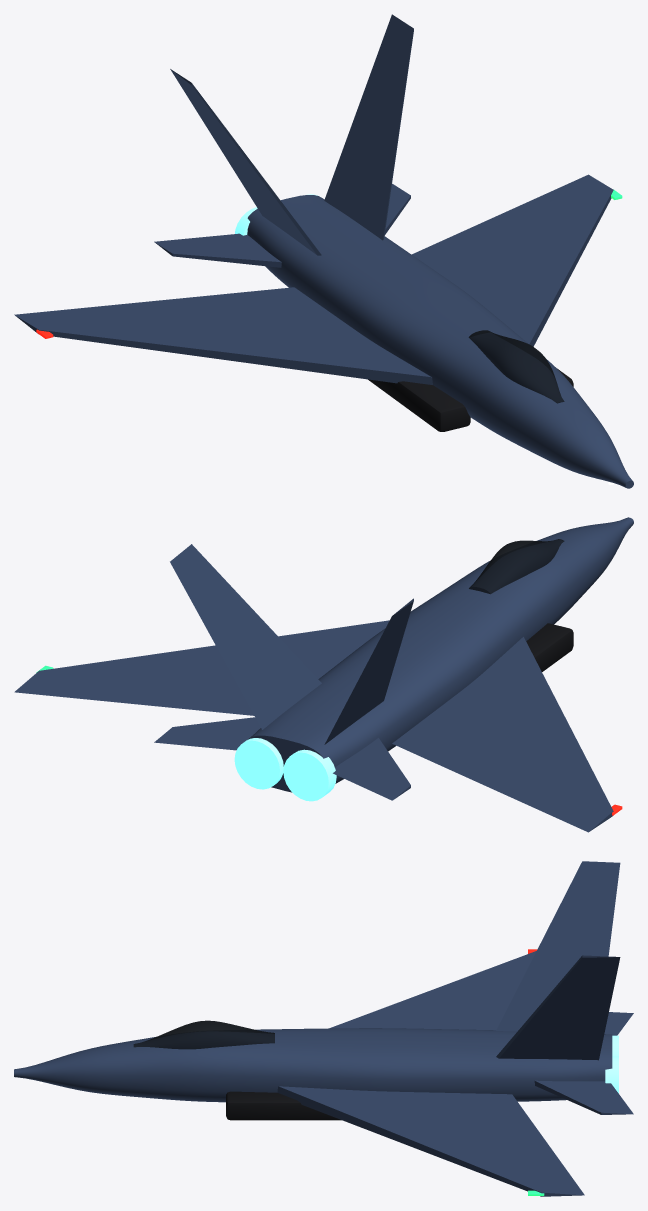
File: vanguard-jet.glb
3 renders of one model, top to bottom at view 1: azimuth 30°, elevation 25°; view 2: azimuth 150°, elevation 25°; view 3: azimuth 270°, elevation 25°, orthographic. The views are drawn at different scales.
Visible parts, largest first — view 1: Body; view 2: Body; view 3: Body.
Boxes of the visible parts, bbox=[...] form: Body: bbox=[14, 14, 633, 488]; Body: bbox=[14, 517, 633, 832]; Body: bbox=[14, 861, 633, 1196].
Bounding box in the file's own units: 10.65 × 3.78 × 11.4.
